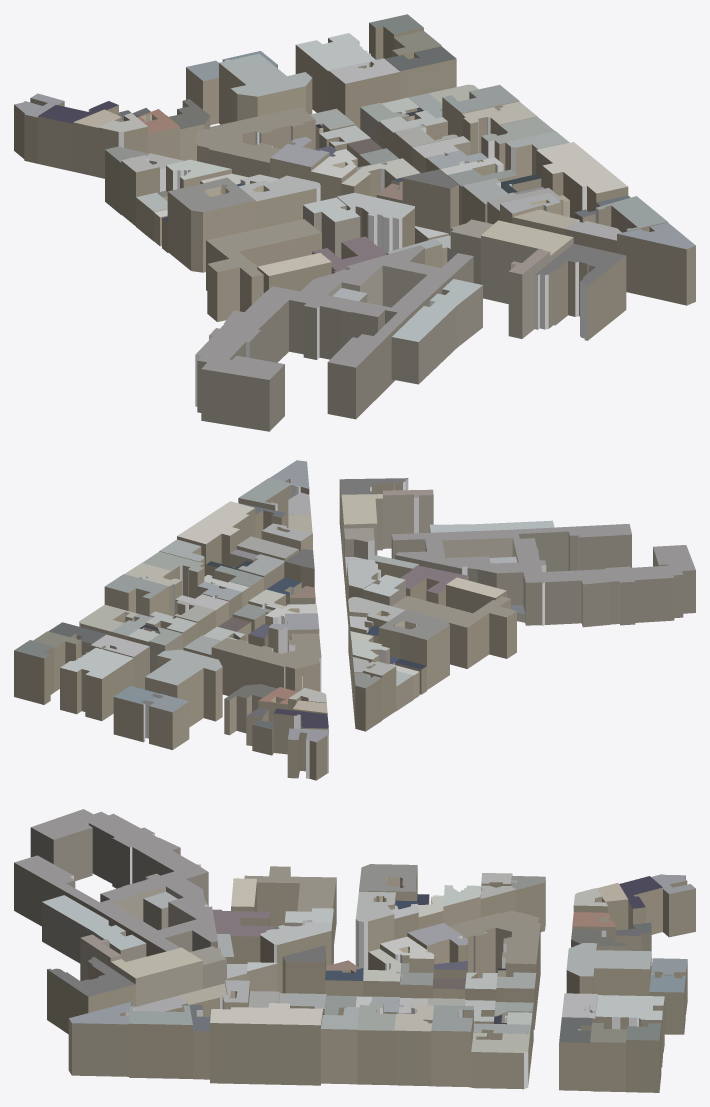
The picture shows the model from 3 angles, top to bottom: view 1: azimuth 30°, elevation 25°; view 2: azimuth 150°, elevation 25°; view 3: azimuth 270°, elevation 25°; orthographic projection. The views are drawn at different scales.
Visible parts, largest first — view 1: tuile; view 2: tuile; view 3: tuile.
Part boxes in pixels (bbox=[...]): tuile: bbox=[14, 14, 695, 431]; tuile: bbox=[14, 460, 695, 780]; tuile: bbox=[14, 809, 695, 1092].
Bounding box in the file's own units: 233 × 31.85 × 286.
